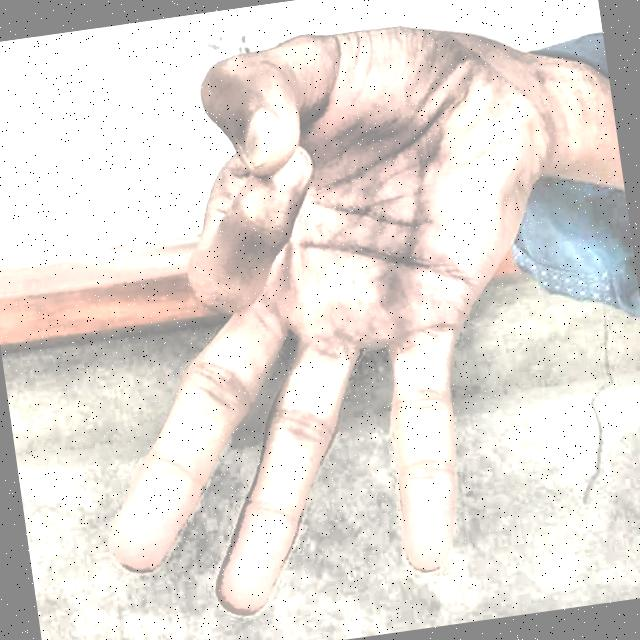Fa: (22, 0, 627, 640)
